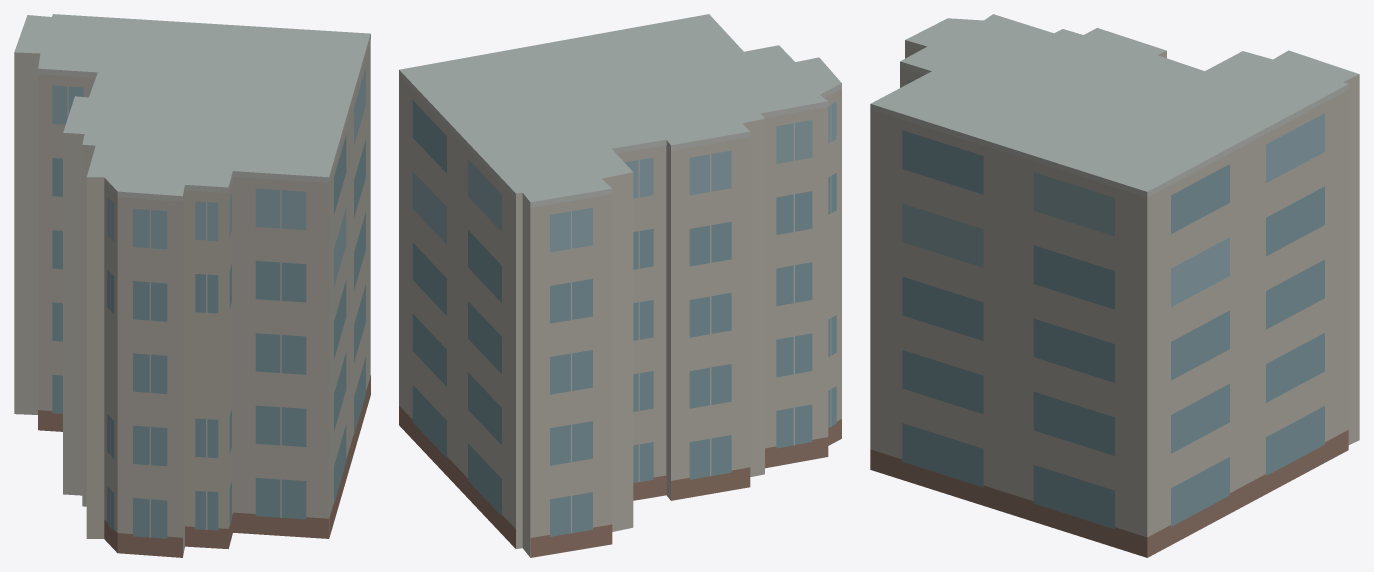
File: survey-upis-32957824.glb
3 renders of one model, left to right at view 1: azimuth 30°, elevation 25°; view 2: azimuth 150°, elevation 25°; view 3: azimuth 270°, elevation 25°, orthographic. The views are drawn at different scales.
Parts seen in each view (by area): view 1: survey-upis-32957824.tmp; view 2: survey-upis-32957824.tmp; view 3: survey-upis-32957824.tmp.
Boxes of the visible parts, x1,y1,x2,y2 form: survey-upis-32957824.tmp: (14, 14, 370, 557); survey-upis-32957824.tmp: (399, 14, 841, 557); survey-upis-32957824.tmp: (870, 14, 1359, 557).
Size of the model in its own units: 16.37 by 15.7 by 19.03.
